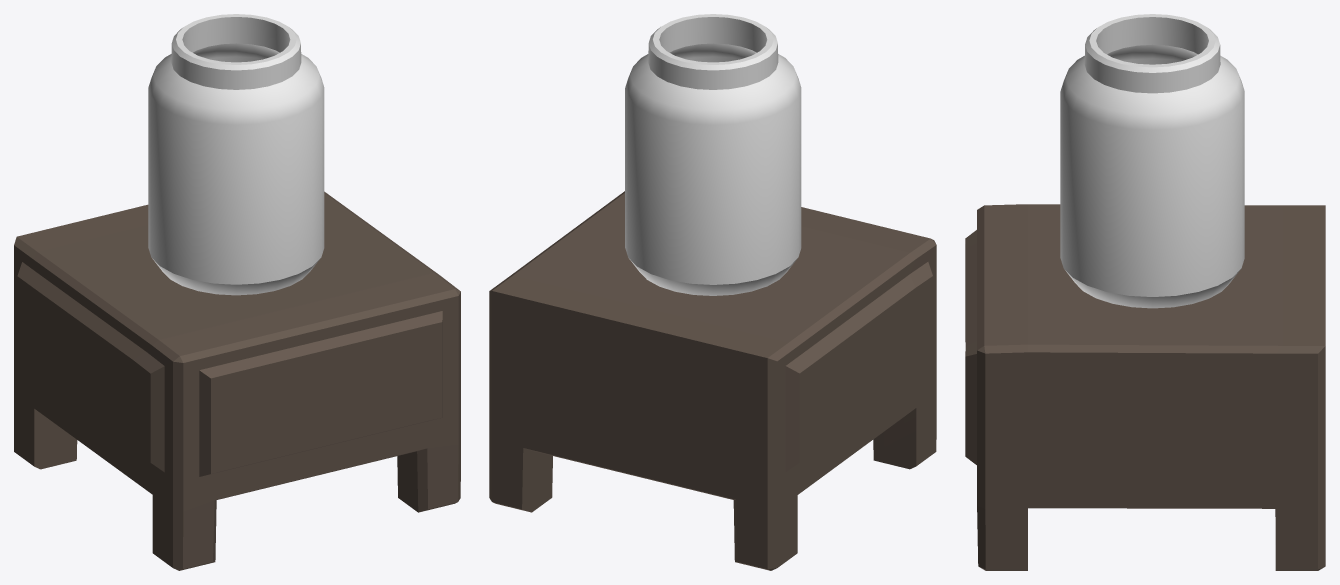
Rendered from aquarium.fbx.
The picture shows the model from 3 angles, left to right: view 1: azimuth 30°, elevation 25°; view 2: azimuth 150°, elevation 25°; view 3: azimuth 270°, elevation 25°; orthographic projection. The views are drawn at different scales.
Parts seen in each view (by area): view 1: sm_bottle_aqarium, sm_bottle_aqarium_glass; view 2: sm_bottle_aqarium, sm_bottle_aqarium_glass; view 3: sm_bottle_aqarium, sm_bottle_aqarium_glass.
Boxes of the visible parts, x1=… form: sm_bottle_aqarium: x1=14, y1=191, x2=460, y2=570; sm_bottle_aqarium_glass: x1=148, y1=14, x2=324, y2=295; sm_bottle_aqarium: x1=489, y1=191, x2=936, y2=570; sm_bottle_aqarium_glass: x1=625, y1=14, x2=801, y2=295; sm_bottle_aqarium: x1=965, y1=204, x2=1325, y2=570; sm_bottle_aqarium_glass: x1=1060, y1=14, x2=1244, y2=308.
Bounding box in the file's own units: 104 × 147 × 104.
